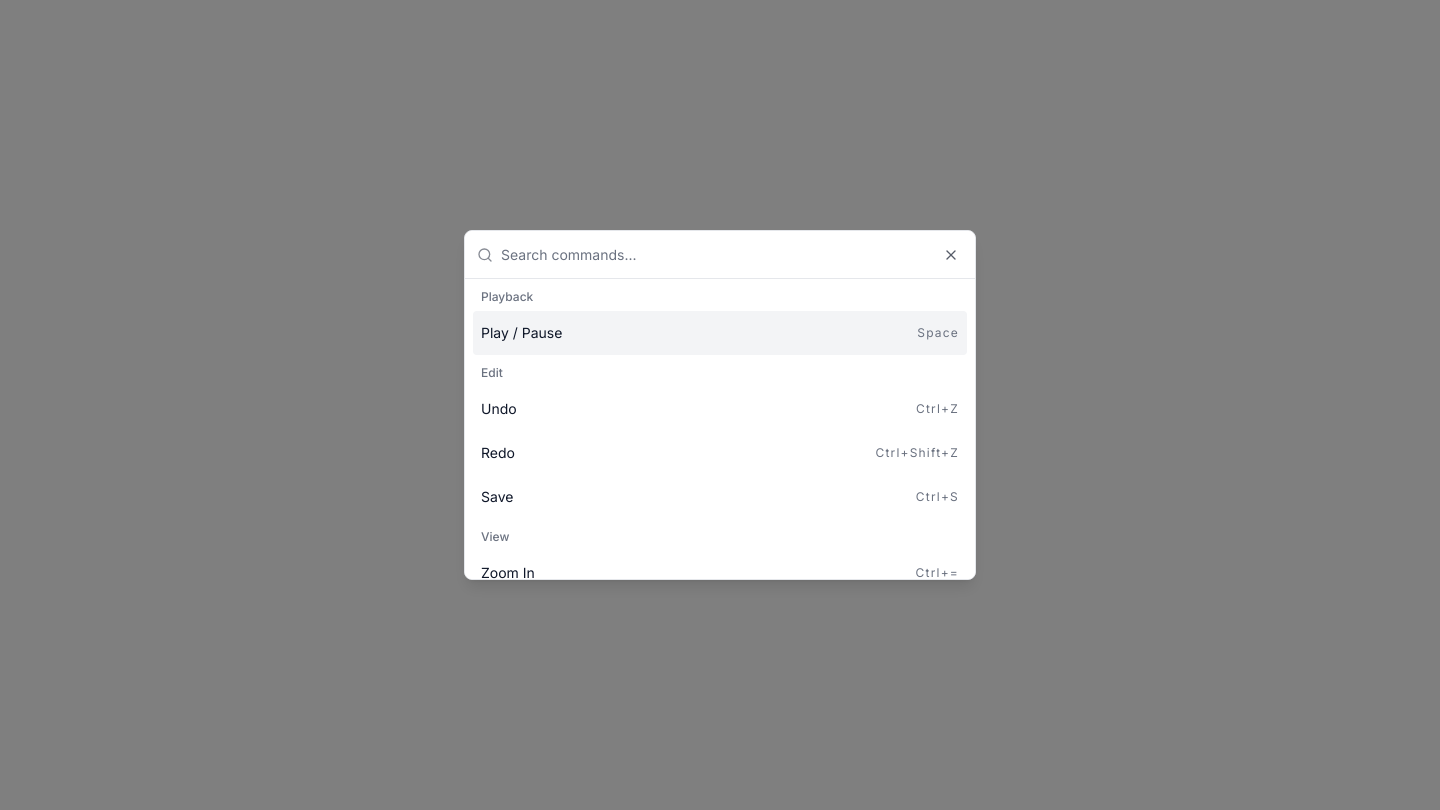
CommandPalette › filters commands based on search input
The width and height of the screenshot is (1440, 810).
Type "zoom" into the dropdown with placeholder "Search commands..." at (732, 254), box [501,230,963,278]
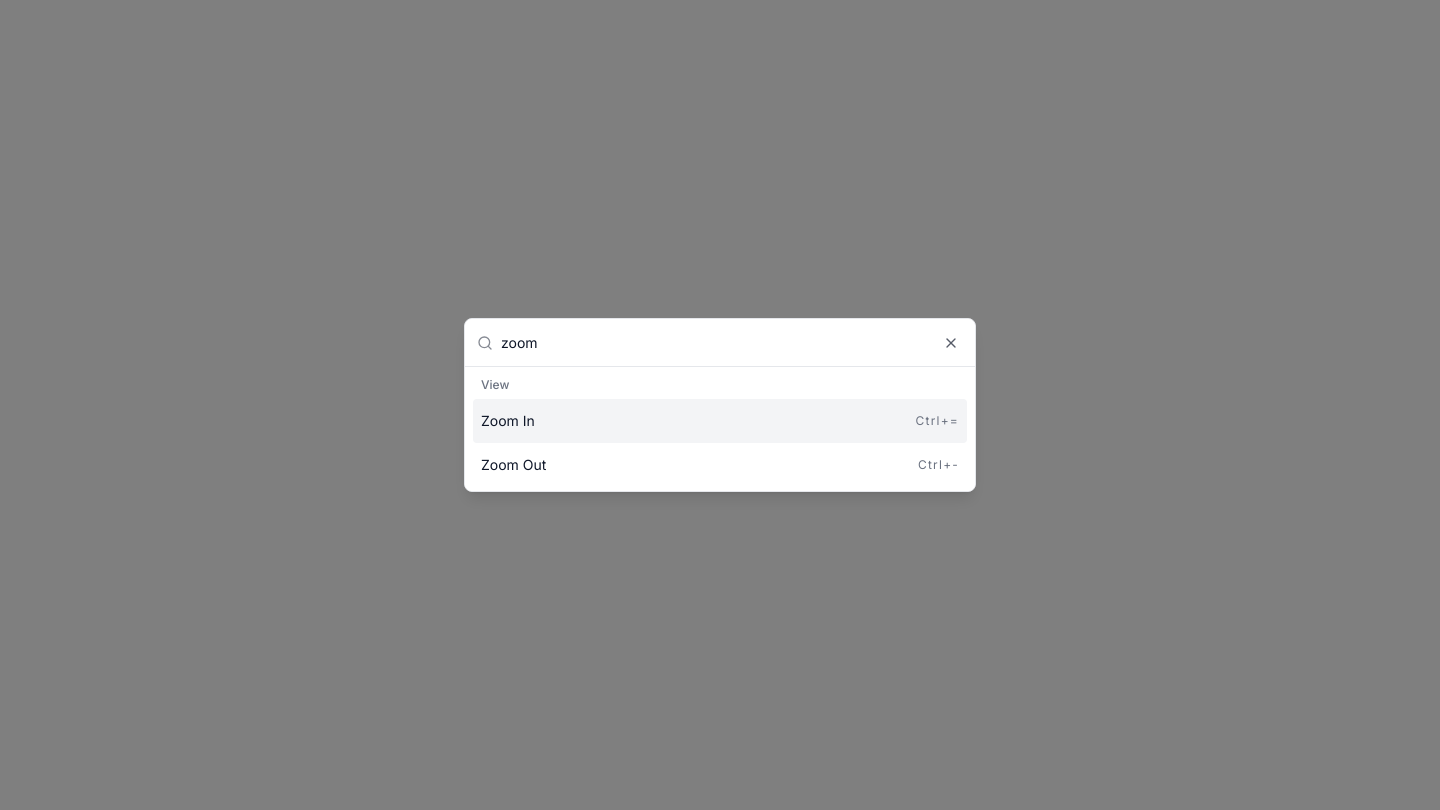
Expected: the option "Zoom In Ctrl+=" is shown, [473,399,967,443]
Now the option "Zoom Out Ctrl+-" is shown, box [481,456,959,473]
